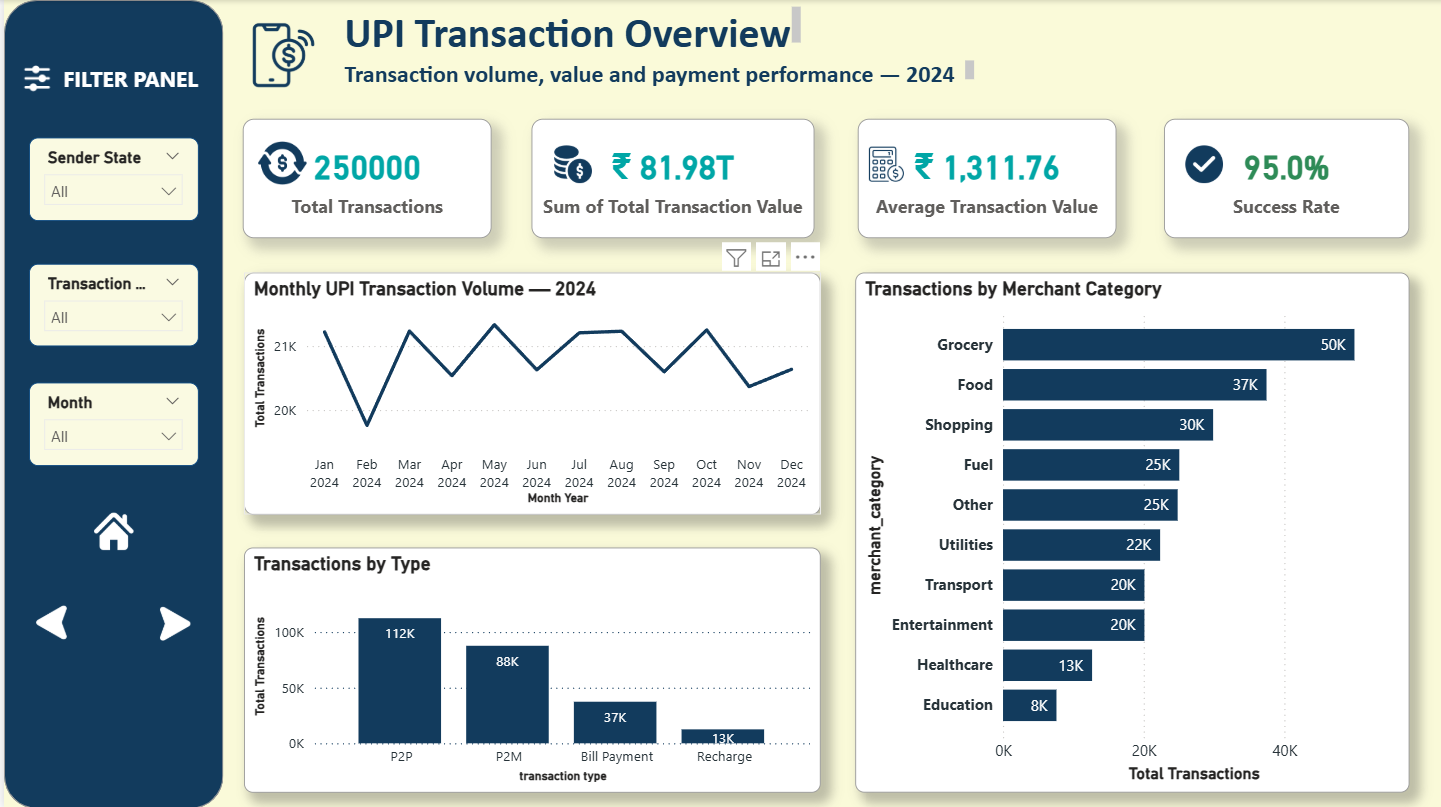

Layout of this report page (visuals, bound fields, positions):
{"tool":"powerbi","page":{"name":"UPI Transaction Overview","canvas":[1280,720],"ordinal":0},"visuals":[{"type":"shape","box":[0,0,195.4,720.2],"z":0},{"type":"card","fields":{"Values":["Fact_Transactions.Total Transactions"]},"box":[212.6,105.2,222,106.2],"z":1000},{"type":"textbox","box":[298,1.2,416.2,48.3],"z":2000},{"type":"textbox","box":[298,49.5,570.6,35],"z":3000},{"type":"card","fields":{"Values":["Sum(Fact_Transactions.Total Transaction Value)"]},"box":[469.5,105.2,252.1,106.2],"z":4000},{"type":"card","fields":{"Values":["Fact_Transactions.Average Transaction Value"]},"box":[760.8,106.2,230.4,106.2],"z":5000},{"type":"card","fields":{"Values":["Fact_Transactions.Success Rate"]},"box":[1033.2,105.2,218.4,106.2],"z":6000},{"type":"lineChart","title":"Monthly UPI Transaction Volume — 2024","fields":{"Category":["Calendar.Month Year"],"Y":["Fact_Transactions.Total Transactions"]},"box":[213.5,242.5,513.9,216],"z":7000},{"type":"clusteredColumnChart","title":"Transactions by Type","fields":{"Category":["Fact_Transactions.transaction type"],"Y":["Fact_Transactions.Total Transactions"]},"box":[213.5,487.4,513.9,218.4],"z":8000},{"type":"clusteredBarChart","title":"Transactions by Merchant Category","fields":{"Y":["Fact_Transactions.Total Transactions"],"Category":["Fact_Transactions.merchant_category"]},"box":[757.6,242.5,493.4,463.3],"z":9000},{"type":"slicer","title":"Sender State","fields":{"Values":["Fact_Transactions.sender_state"]},"box":[22.7,122.8,150.8,74.8],"z":10000},{"type":"slicer","title":"Sender State","fields":{"Values":["Fact_Transactions.transaction type"]},"box":[22.7,235,150.8,73.6],"z":11000},{"type":"slicer","title":"Sender State","fields":{"Values":["Calendar.Month Year"]},"box":[22.7,341.2,150.8,74.8],"z":12000},{"type":"image","box":[481.6,124.5,49.5,43.4],"z":13000},{"type":"image","box":[221,118.5,53.1,54.3],"z":14000},{"type":"image","box":[761.3,125.5,48.3,41],"z":15000},{"type":"image","box":[1046,124.3,44.6,43.4],"z":16000},{"type":"image","box":[213.5,15.7,71.2,67.6],"z":17000},{"type":"textbox","box":[48.3,51.9,147.2,36.2],"z":18000},{"type":"image","box":[10.6,49.2,37.4,41],"z":19000},{"type":"image","box":[74.8,451.2,45.8,44.6],"z":20000},{"type":"image","box":[132.9,535.7,39.8,39.8],"z":21000},{"type":"image","box":[22,534.5,39.8,39.8],"z":22000}]}

Visuals, with their boxes in screenshot pixels (x1, y1, x2, y2), scaled from the page's 1280x720 canvas onto the 1441x807 screenshot:
shape: bbox=(0, 0, 220, 806)
card - Fact_Transactions.Total Transactions: bbox=(239, 118, 489, 237)
textbox: bbox=(335, 1, 804, 55)
textbox: bbox=(335, 55, 978, 95)
card - Sum(Fact_Transactions.Total Transaction Value): bbox=(529, 118, 812, 237)
card - Fact_Transactions.Average Transaction Value: bbox=(856, 119, 1116, 238)
card - Fact_Transactions.Success Rate: bbox=(1163, 118, 1409, 237)
"Monthly UPI Transaction Volume — 2024" lineChart: bbox=(240, 272, 819, 514)
"Transactions by Type" clusteredColumnChart: bbox=(240, 546, 819, 791)
"Transactions by Merchant Category" clusteredBarChart: bbox=(853, 272, 1408, 791)
"Sender State" slicer: bbox=(26, 138, 195, 221)
"Sender State" slicer: bbox=(26, 263, 195, 346)
"Sender State" slicer: bbox=(26, 382, 195, 466)
image: bbox=(542, 140, 598, 188)
image: bbox=(249, 133, 309, 194)
image: bbox=(857, 141, 911, 187)
image: bbox=(1178, 139, 1228, 188)
image: bbox=(240, 18, 321, 93)
textbox: bbox=(54, 58, 220, 99)
image: bbox=(12, 55, 54, 101)
image: bbox=(84, 506, 136, 556)
image: bbox=(150, 600, 194, 645)
image: bbox=(25, 599, 70, 644)
